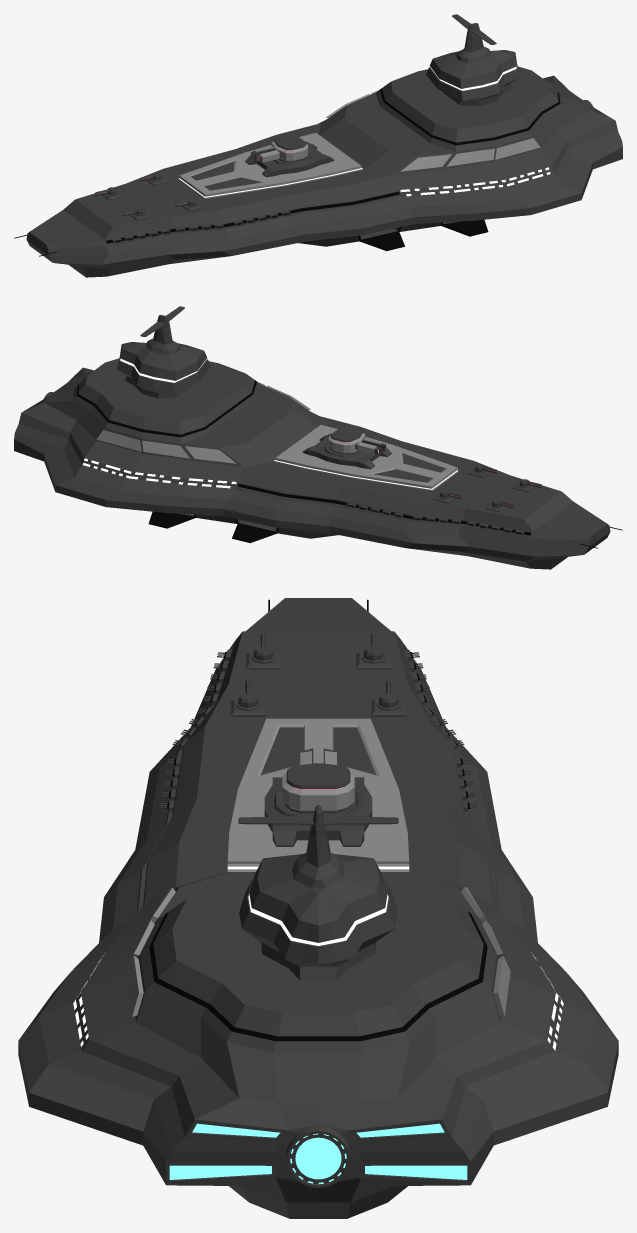
File: capitalship_ApplyTrans.fbx
3 renders of one model, top to bottom at view 1: azimuth 30°, elevation 25°; view 2: azimuth 150°, elevation 25°; view 3: azimuth 270°, elevation 25°, orthographic. The views are drawn at different scales.
Visible parts, largest first — view 1: Plane, Cube.001, top deck guns; view 2: Plane, Cube.001, top deck guns; view 3: Plane, Cube.001, top deck guns, Cylinder.001, side turrets 1, side turrets 3.
Boxes of the visible parts, x1=… form: Plane: x1=26, y1=14, x2=622, y2=277; Cube.001: x1=245, y1=135, x2=334, y2=177; top deck guns: x1=95, y1=172, x2=203, y2=220; Plane: x1=14, y1=306, x2=610, y2=569; Cube.001: x1=302, y1=427, x2=391, y2=469; top deck guns: x1=433, y1=464, x2=541, y2=512; Plane: x1=18, y1=598, x2=618, y2=1218; Cube.001: x1=264, y1=748, x2=372, y2=846; top deck guns: x1=230, y1=632, x2=406, y2=716; Cylinder.001: x1=286, y1=1126, x2=350, y2=1187; side turrets 1: x1=203, y1=649, x2=433, y2=704; side turrets 3: x1=160, y1=756, x2=476, y2=811.
Size of the model in its own units: 1431 by 477 by 661.
